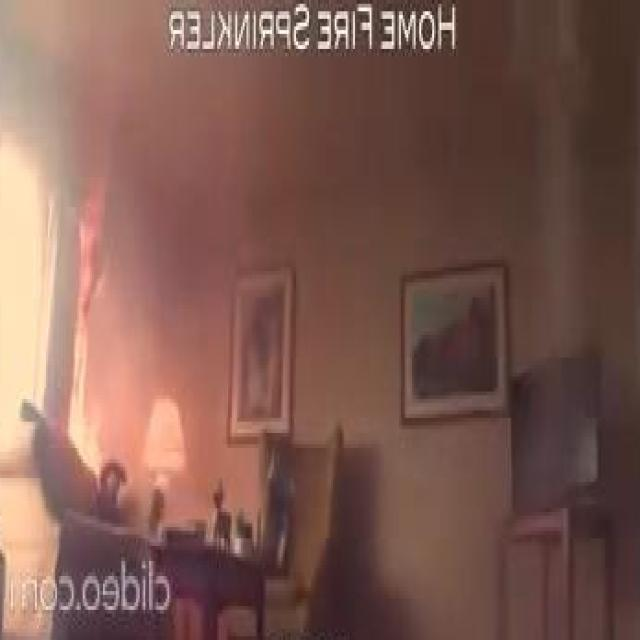smoke: (66, 207, 116, 478)
